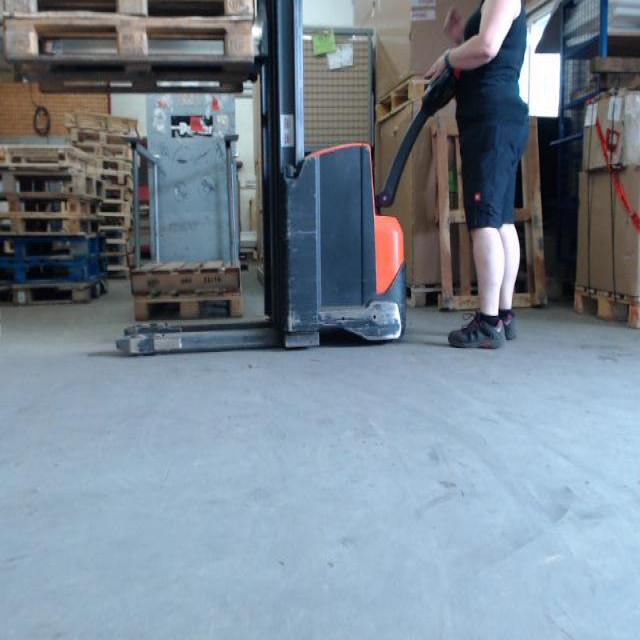pallet: (432, 117, 548, 311), (0, 17, 256, 95), (124, 256, 246, 301), (127, 291, 245, 324), (1, 274, 110, 308), (0, 253, 108, 287), (373, 75, 438, 127), (1, 168, 106, 199), (0, 145, 101, 177), (572, 285, 640, 331), (0, 193, 111, 221), (1, 212, 114, 239), (1, 233, 110, 259), (397, 282, 483, 311), (66, 111, 142, 138), (72, 143, 142, 165), (68, 129, 141, 150), (92, 158, 134, 178), (98, 200, 135, 217), (96, 215, 134, 231), (102, 187, 136, 204), (100, 175, 136, 191), (100, 228, 136, 241), (103, 241, 133, 255), (108, 256, 129, 271)
pallet_truck: (109, 0, 471, 360)
stillage: (279, 16, 388, 165)
